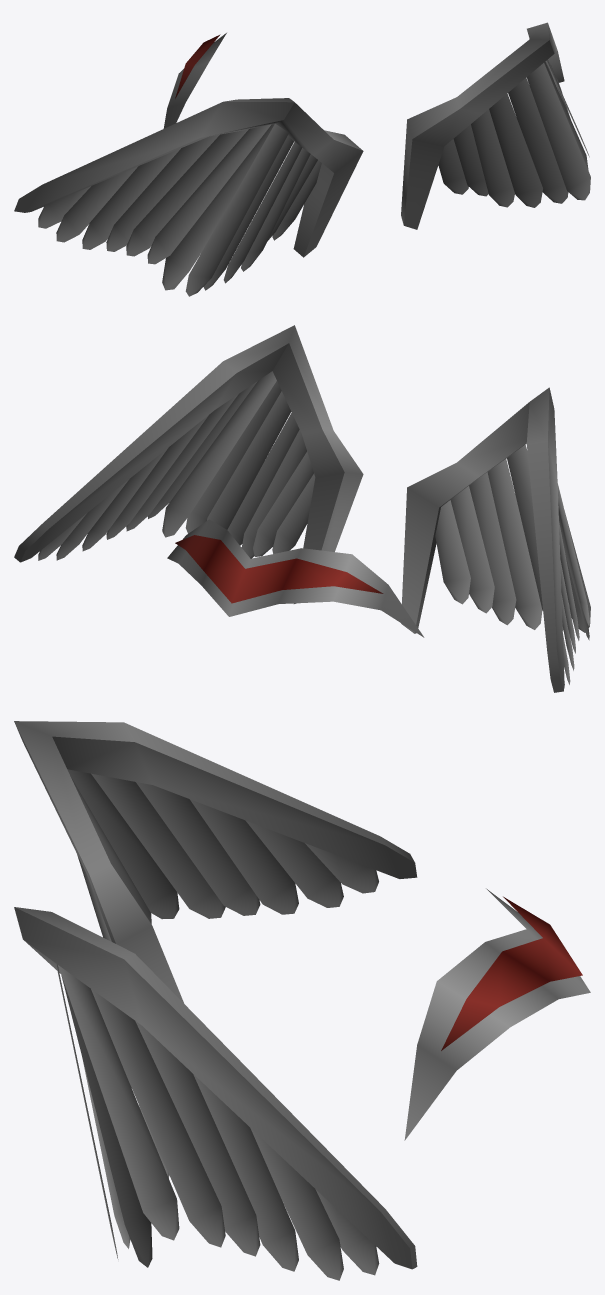
The model's file is hat_premium_ChromeWings.glb.
The picture shows the model from 3 angles, top to bottom: view 1: azimuth 30°, elevation 25°; view 2: azimuth 150°, elevation 25°; view 3: azimuth 270°, elevation 25°; orthographic projection. The views are drawn at different scales.
Visible parts, largest first — view 1: hat_premium_ChromeWings; view 2: hat_premium_ChromeWings; view 3: hat_premium_ChromeWings.
Part boxes in pixels (left/top/right/bottom): hat_premium_ChromeWings: left=14, top=22, right=590, bottom=296; hat_premium_ChromeWings: left=14, top=325, right=590, bottom=692; hat_premium_ChromeWings: left=14, top=721, right=590, bottom=1280.
Size of the model in its own units: 0.7976 by 0.3021 by 0.4851.
